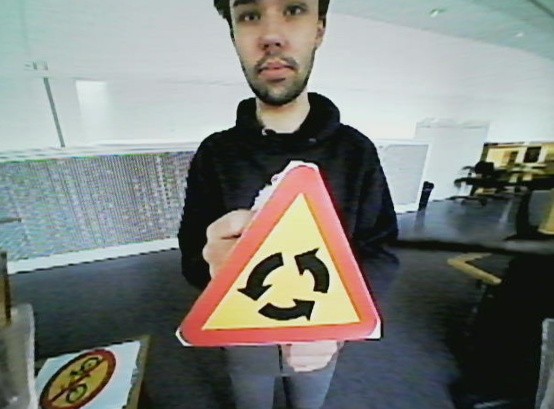roundabout_warning: (177, 163, 387, 360)
